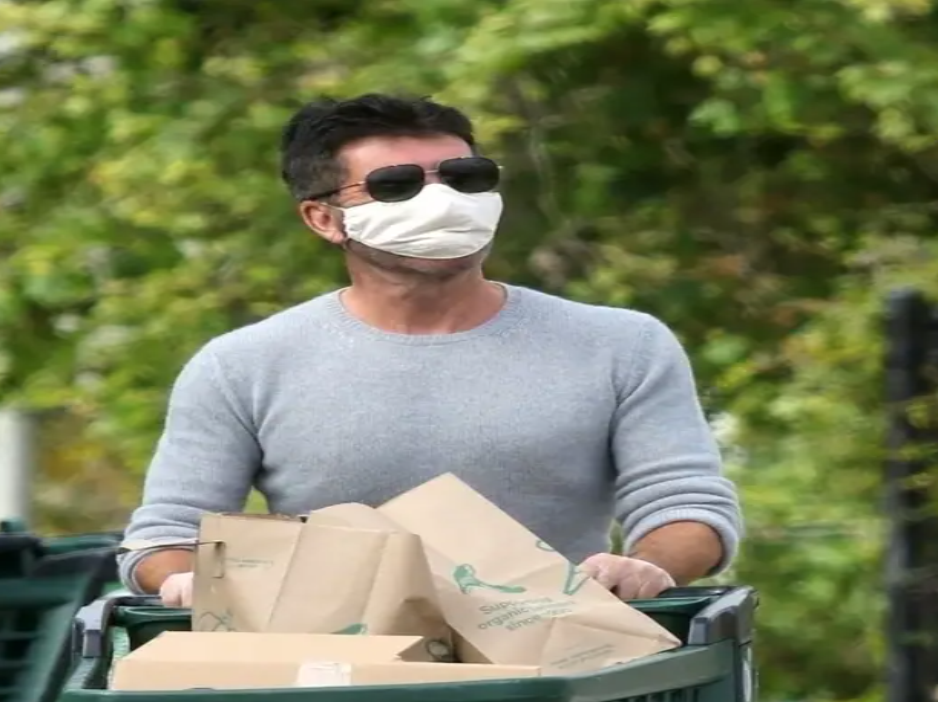mask_weared_incorrect: (277, 98, 513, 280)
